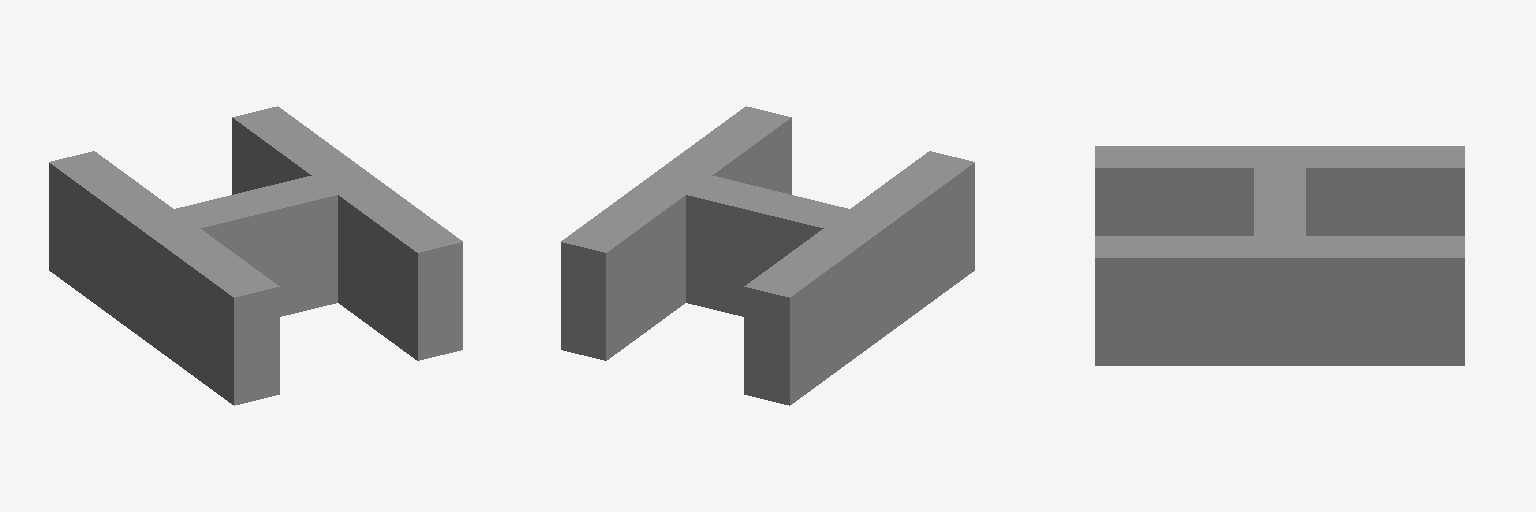
The picture shows the model from 3 angles: view 1: azimuth 30°, elevation 25°; view 2: azimuth 150°, elevation 25°; view 3: azimuth 270°, elevation 25°; orthographic projection.
Parts seen in each view (by area): view 1: H_CUABC.008; view 2: H_CUABC.008; view 3: H_CUABC.008.
Part boxes in pixels (x1,y1,x2,y2): H_CUABC.008: (49,106,462,405); H_CUABC.008: (561,106,974,405); H_CUABC.008: (1095,146,1464,365).
Bounding box in the file's own units: 0.5556 × 0.25 × 0.7778.